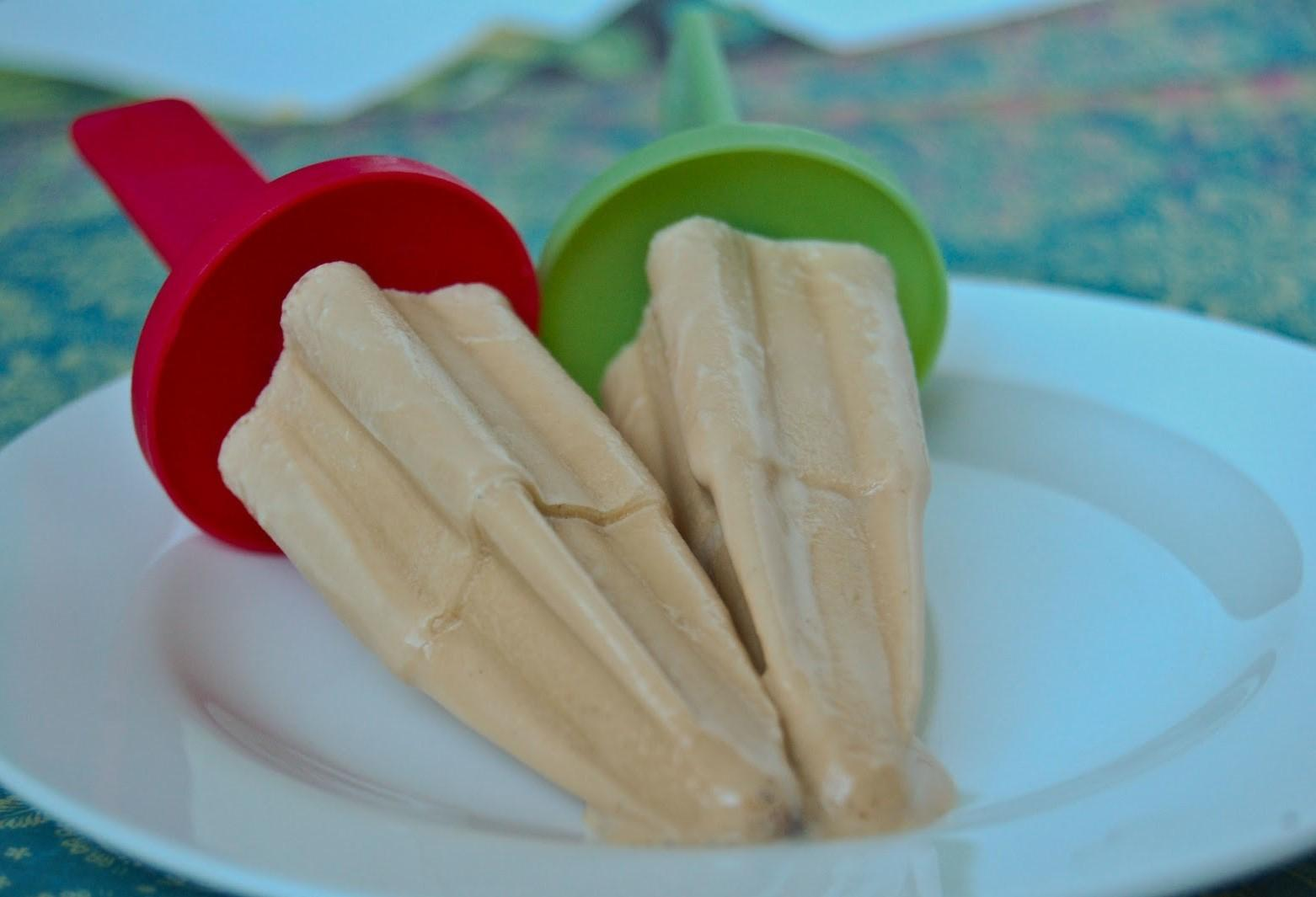Kulfi: (222, 262, 794, 832), (595, 218, 932, 824)
